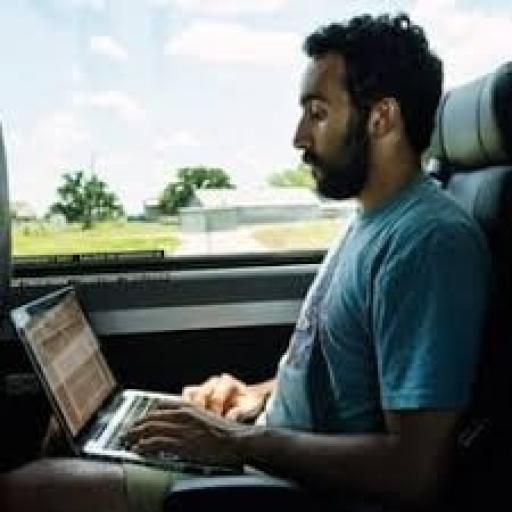sitting: (0, 9, 501, 510)
